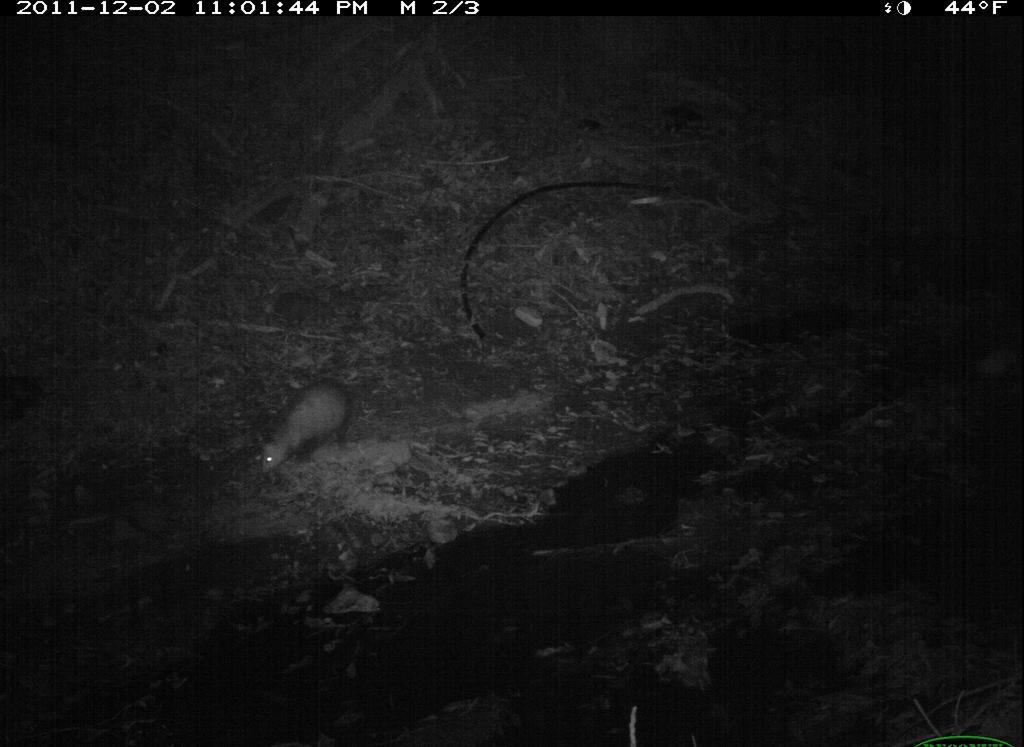opossum: (239, 356, 438, 483)
